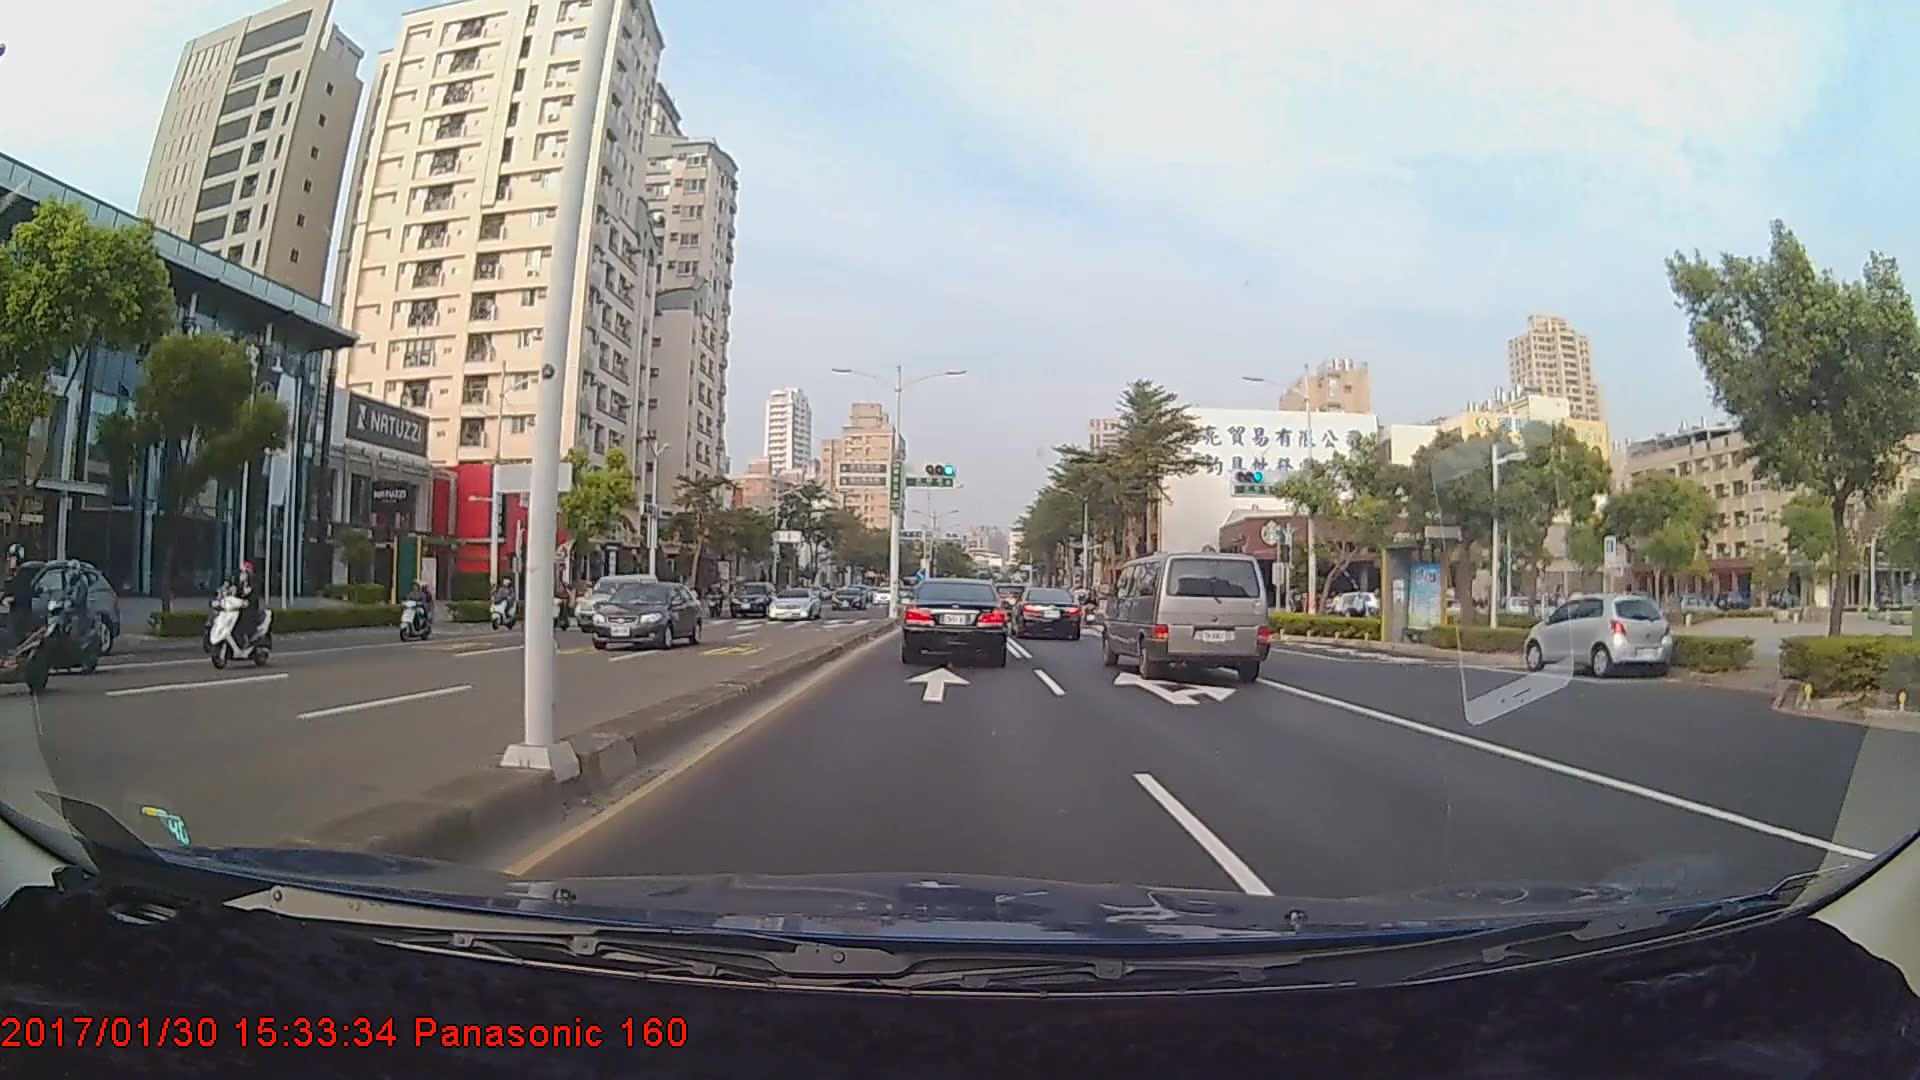rider: (24, 550, 109, 678), (1, 545, 66, 695), (202, 552, 281, 674), (395, 574, 437, 642)
vehicle: (1104, 547, 1271, 686), (1521, 591, 1671, 677), (901, 578, 1006, 664), (11, 564, 110, 651), (586, 580, 703, 653), (574, 571, 661, 629), (1009, 587, 1082, 640), (727, 579, 776, 616), (765, 587, 822, 619), (830, 584, 871, 611)
